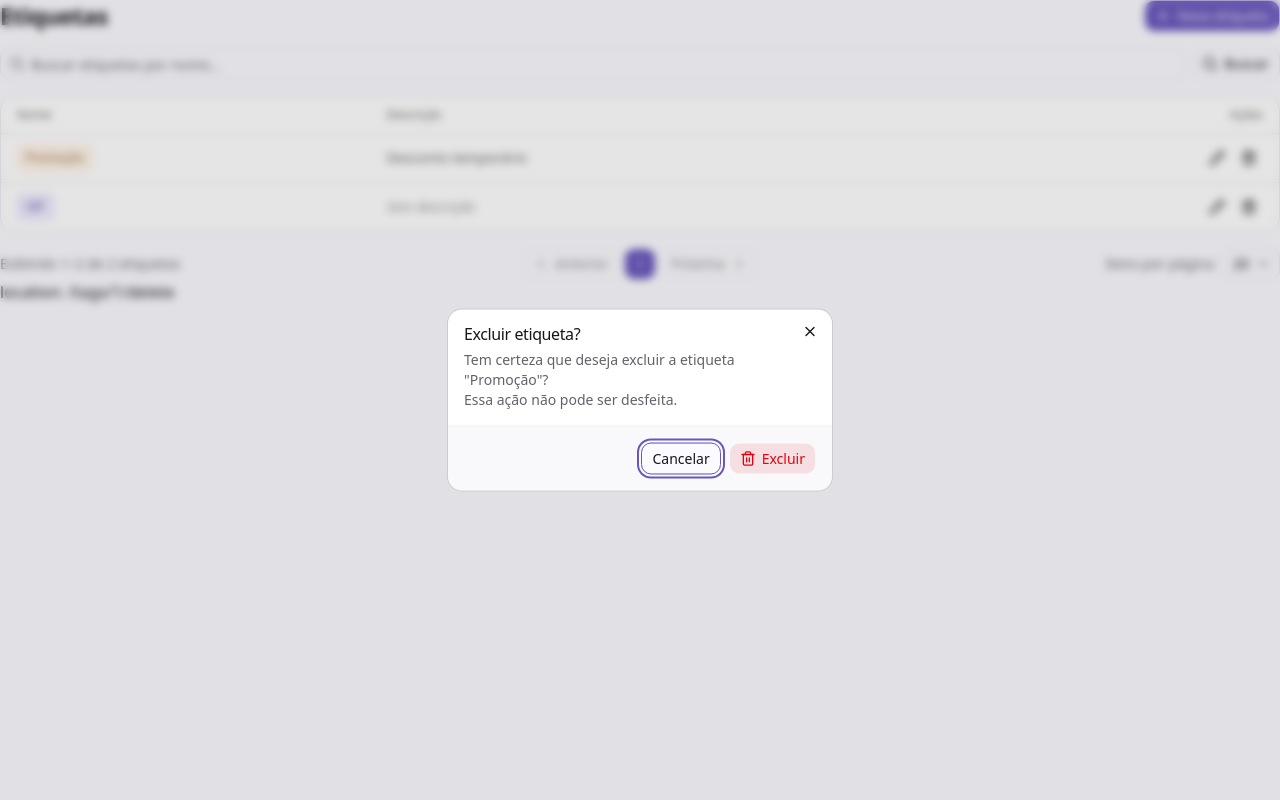
Test: TagDeletePage › handles incomplete entries without inventing names or links
expect the text "Tem certeza que deseja excluir a etiqueta \"Promoção\"?" is shown: met, box x1=464 y1=350 x2=735 y2=388
Click the button "Excluir": (772, 458) x1=729 y1=442 x2=816 y2=474
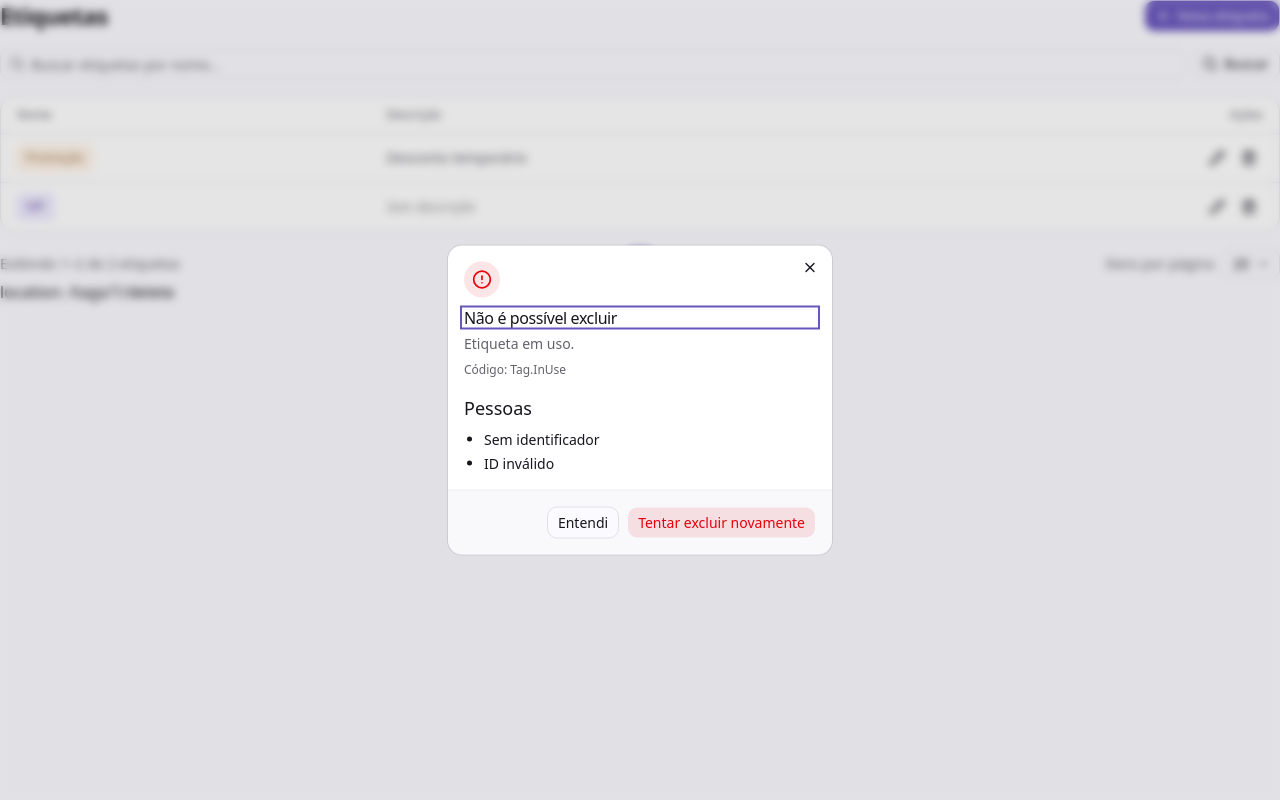
expect the button "Tentar excluir novamente" is enabled: met, box x1=627 y1=506 x2=816 y2=538
expect the list item "Sem identificador" is shown: met, box x1=484 y1=430 x2=600 y2=448
expect the list item "ID inválido" is shown: met, box x1=484 y1=454 x2=554 y2=472
